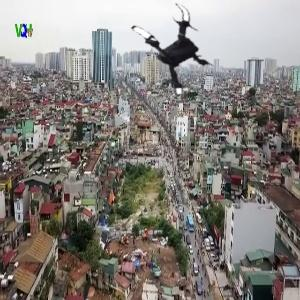drone: (125, 3, 227, 105)
